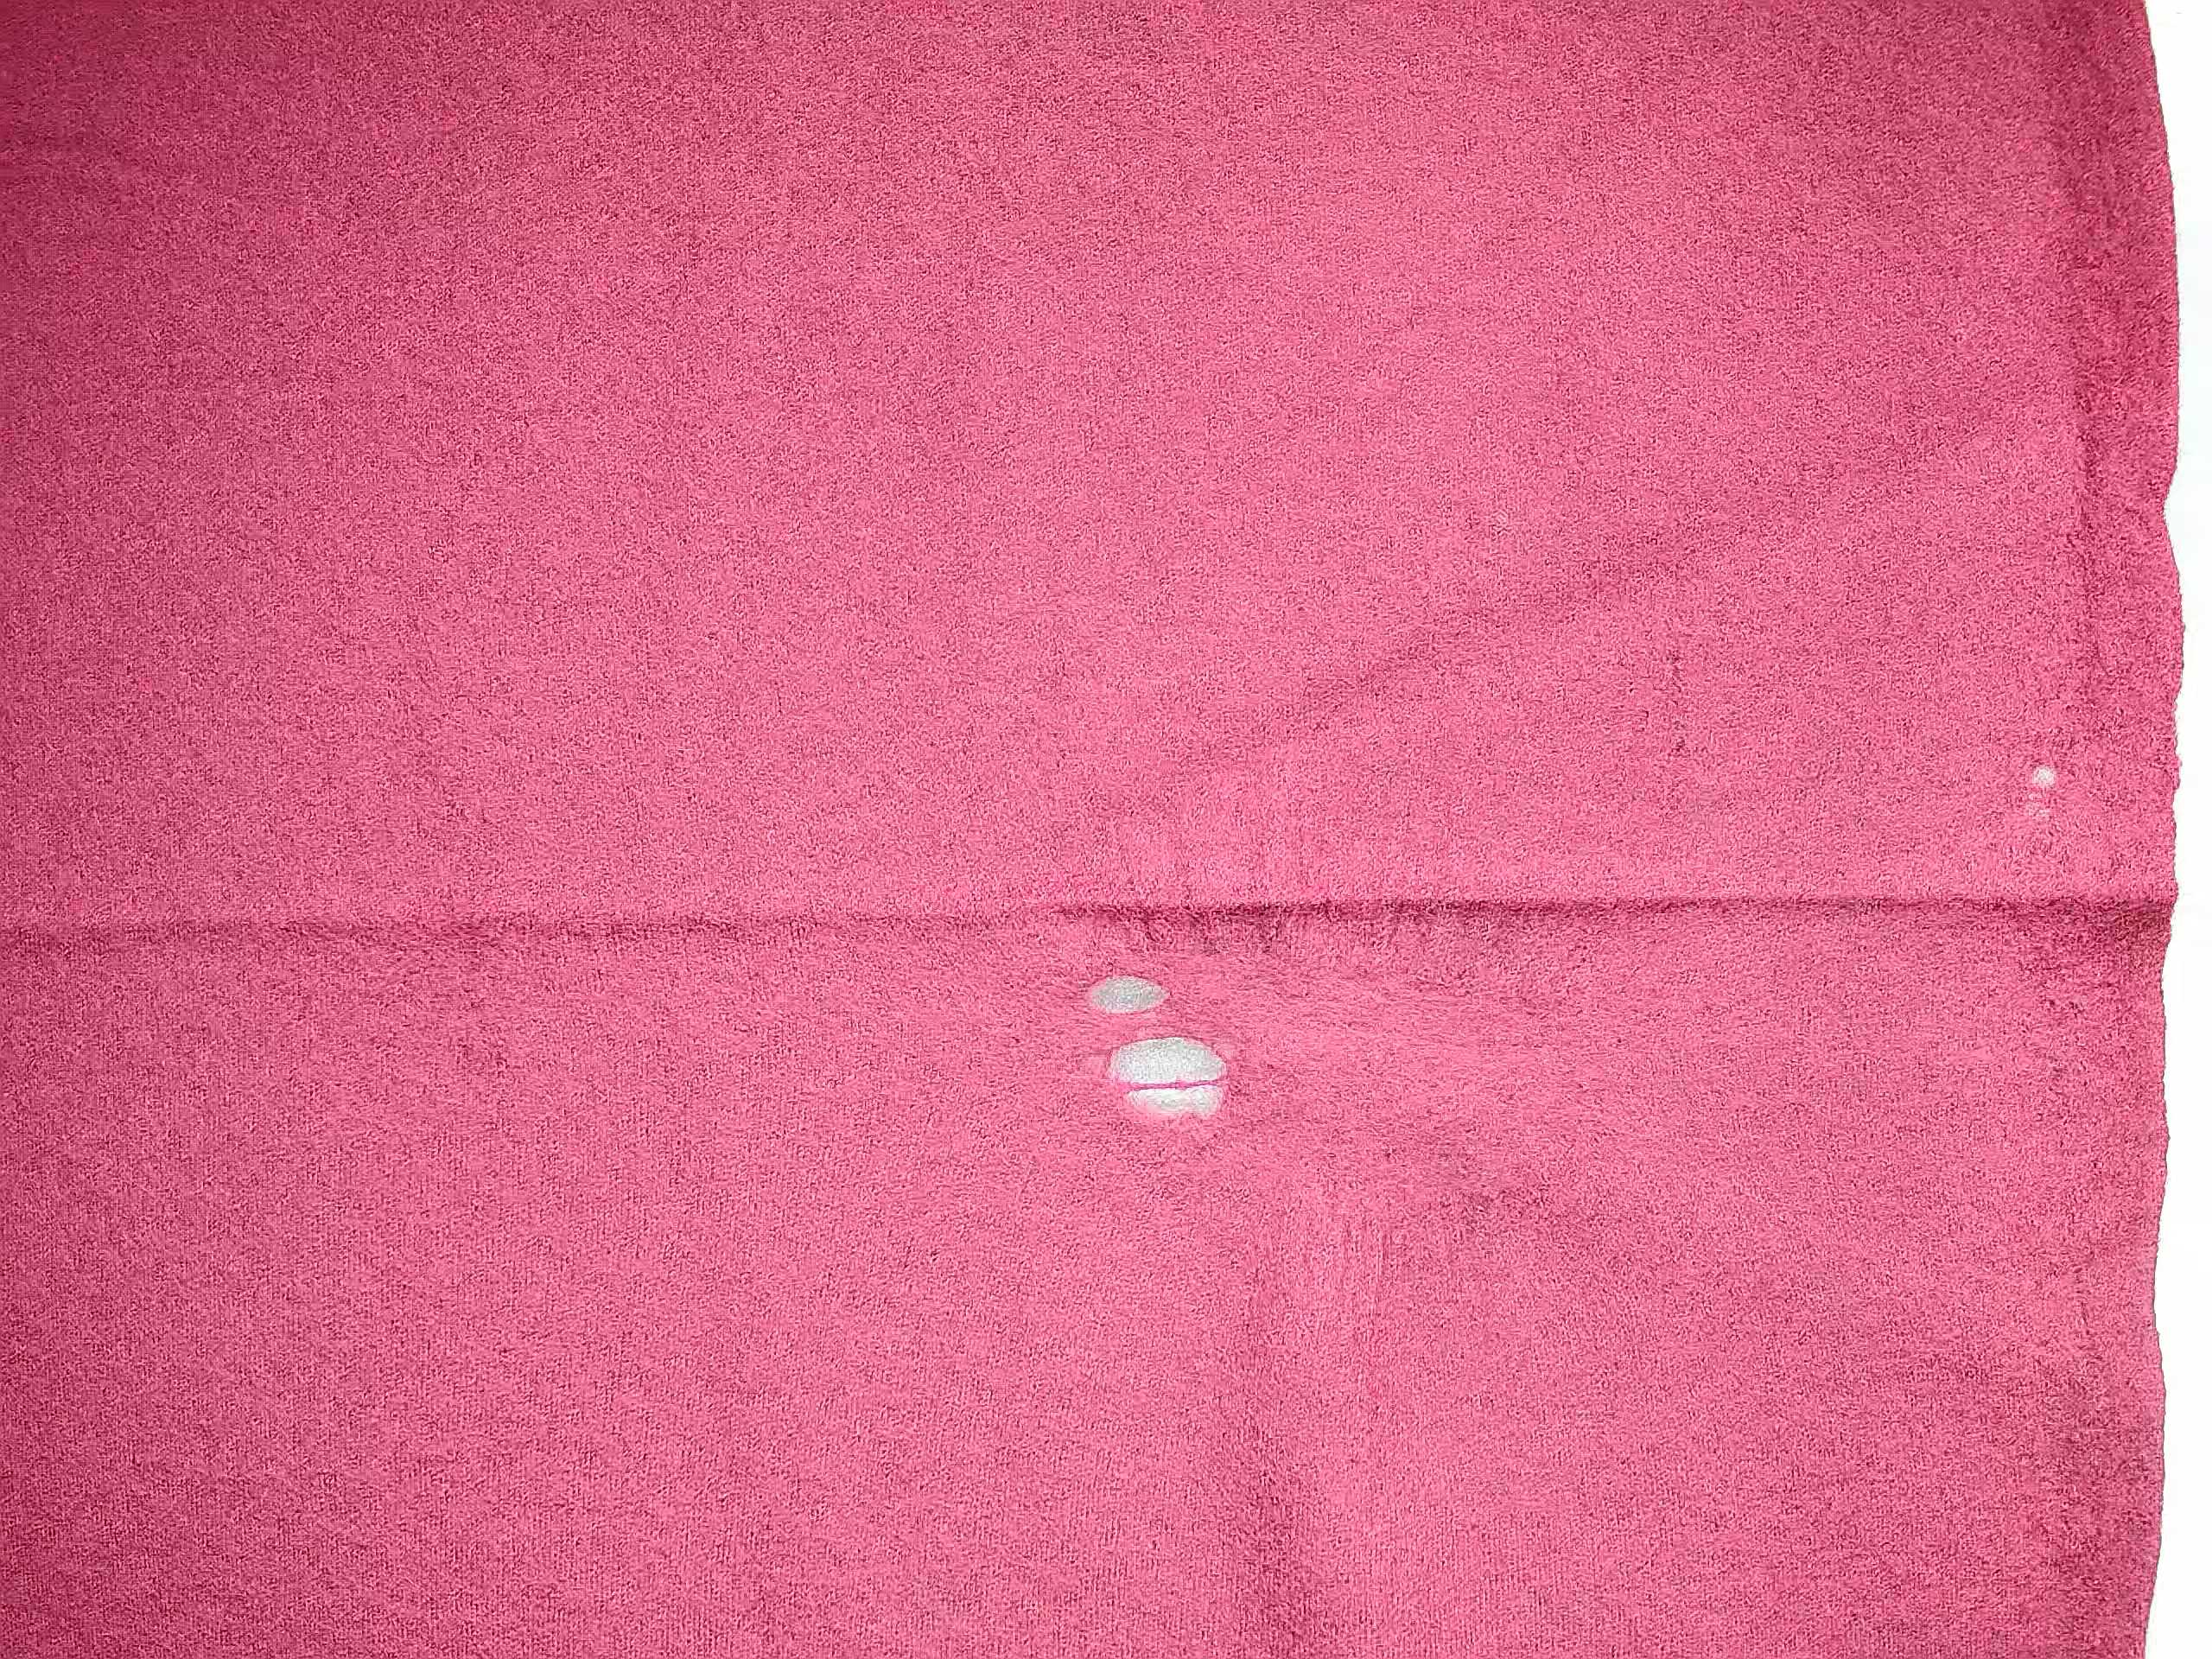others: (1029, 885, 1294, 1194), (1989, 725, 2094, 878)
